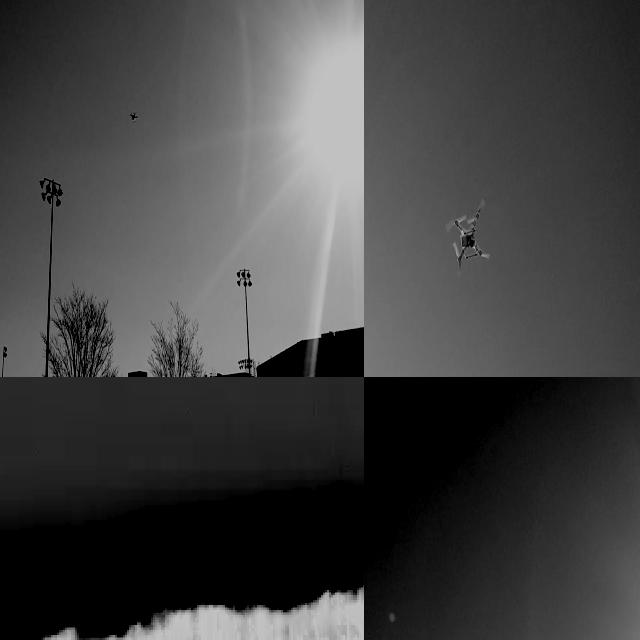drone: (446, 196, 491, 270), (123, 101, 141, 128)
